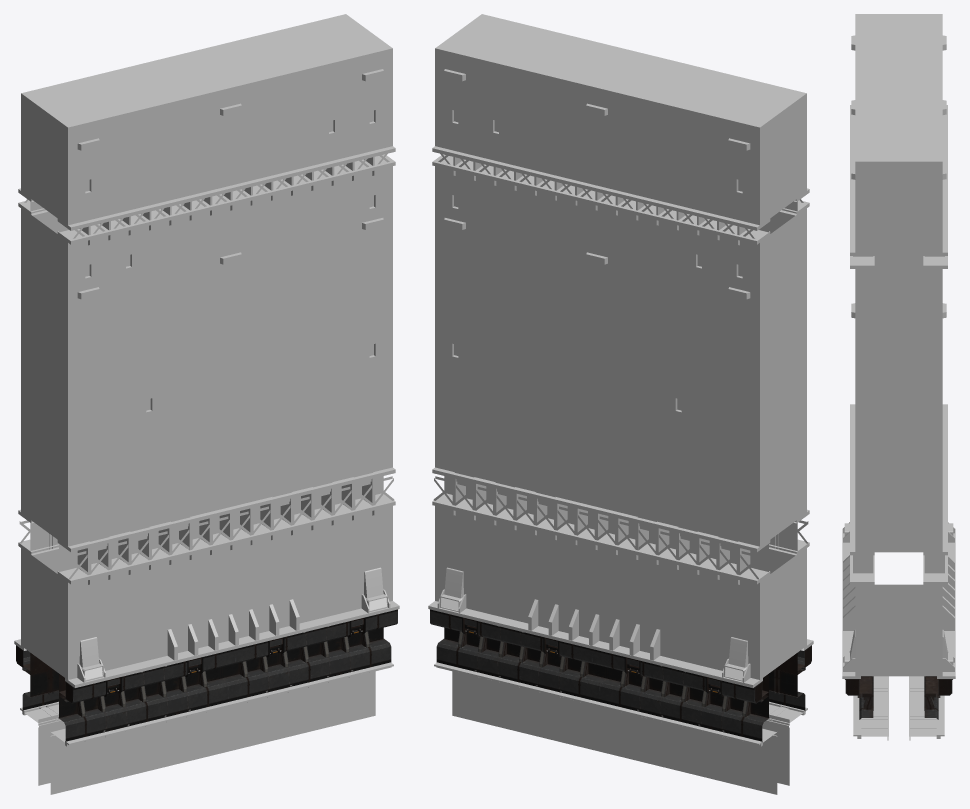
File: Wall_Large_08_LOD1.fbx
3 views of the same model, side by side, from view 1: azimuth 30°, elevation 25°; view 2: azimuth 150°, elevation 25°; view 3: azimuth 270°, elevation 25° (orthographic). The views are drawn at different scales.
Parts seen in each view (by area): view 1: Concrete_Blocks, Element1, Element3, Element2, Element4; view 2: Concrete_Blocks, Element1, Element3, Element2, Element4; view 3: Concrete_Blocks, Element1, Element3, Element2, Element4.
Part boxes in pixels (x1,y1,x2,y2): Concrete_Blocks: (21,14,392,679); Element1: (14,567,399,794); Element3: (18,146,395,585); Element2: (16,609,397,741); Element4: (77,69,383,299); Concrete_Blocks: (435,14,806,679); Element1: (428,567,813,794); Element3: (432,146,809,585); Element2: (430,609,811,741); Element4: (444,69,750,299); Concrete_Blocks: (855,14,942,676); Element1: (842,522,955,740); Element3: (850,105,947,585); Element2: (845,676,952,719); Element4: (851,35,946,318).
Size of the model in its own units: 1604 by 3200 by 518.
